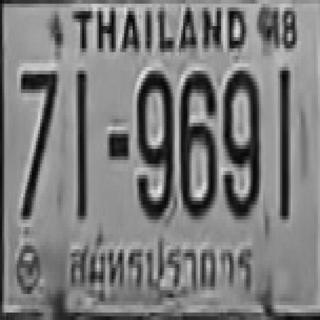N01: (75, 67, 87, 216), (278, 65, 288, 218)
N06: (179, 67, 215, 216)
N07: (19, 67, 57, 216)
N09: (221, 67, 259, 216), (136, 67, 172, 216)
P57: (62, 227, 256, 302)
